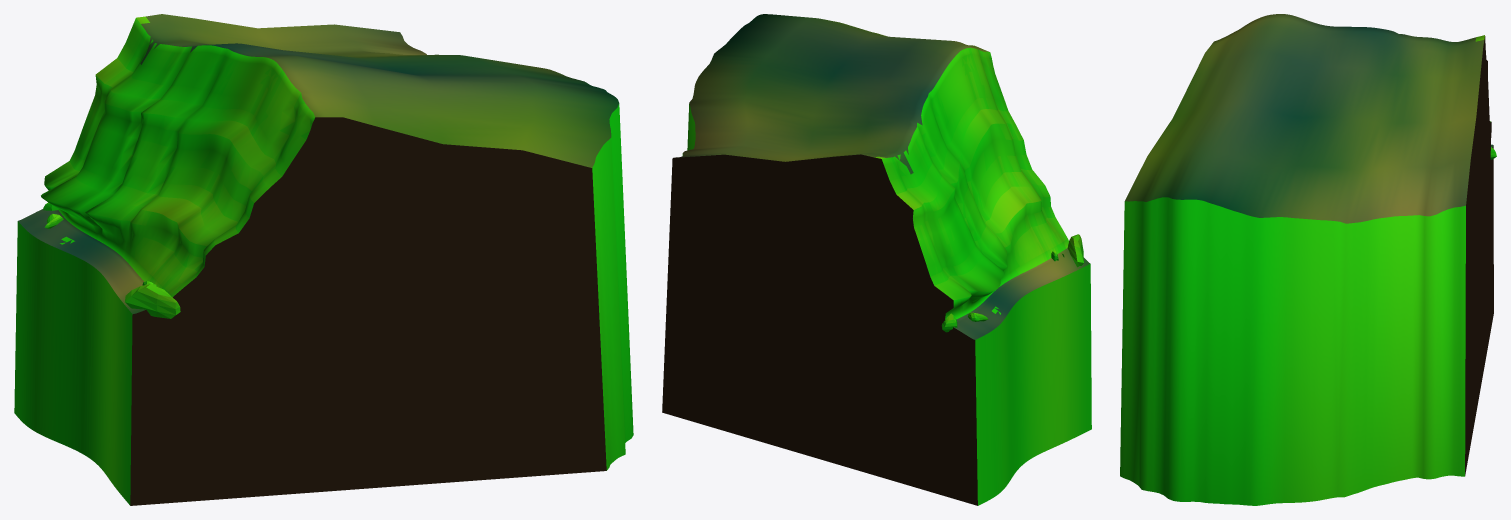
The model's file is SM_ForestRisingCliffs_19.fbx.
The picture shows the model from 3 angles, left to right: view 1: azimuth 30°, elevation 25°; view 2: azimuth 150°, elevation 25°; view 3: azimuth 270°, elevation 25°; orthographic projection. The views are drawn at different scales.
Visible parts, largest first — view 1: SM_ForestRisingCliffs_19; view 2: SM_ForestRisingCliffs_19; view 3: SM_ForestRisingCliffs_19.
Part boxes in pixels (box(x1,y1,x2,y2)): SM_ForestRisingCliffs_19: box(14, 14, 633, 505); SM_ForestRisingCliffs_19: box(662, 14, 1091, 505); SM_ForestRisingCliffs_19: box(1120, 14, 1496, 505).
Size of the model in its own units: 61.6 by 49.4 by 52.11.
